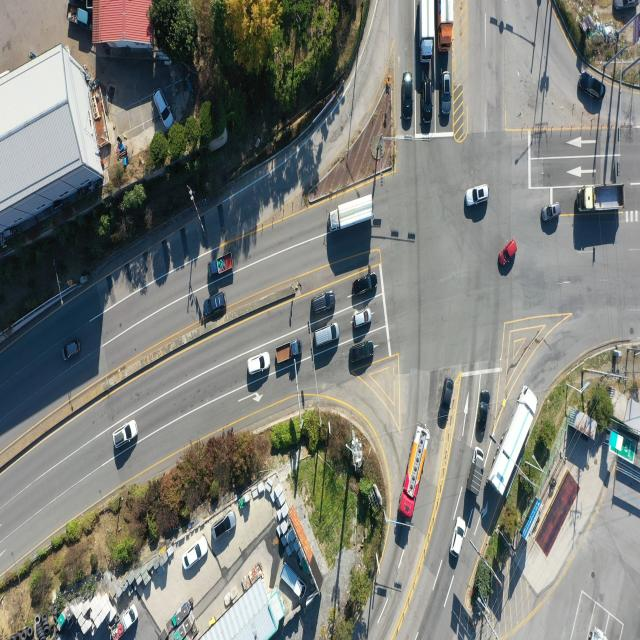car: (184, 538, 210, 572), (578, 71, 603, 103), (440, 377, 456, 424), (114, 420, 139, 450), (156, 89, 174, 130), (477, 391, 491, 441), (403, 73, 415, 130), (352, 272, 378, 298), (313, 322, 339, 348), (349, 340, 375, 366), (212, 511, 235, 540), (498, 238, 516, 272), (452, 517, 466, 559), (247, 351, 271, 375), (204, 292, 228, 316), (314, 291, 338, 314), (466, 185, 491, 207), (442, 73, 453, 119), (422, 78, 433, 124), (353, 309, 372, 328), (540, 204, 560, 222), (63, 341, 80, 362), (615, 0, 639, 11)
medium_truck: (490, 386, 537, 496), (400, 422, 430, 518), (328, 194, 374, 235), (577, 186, 622, 215), (420, 0, 437, 61), (437, 0, 453, 50)
small_truck: (467, 448, 486, 498), (114, 601, 138, 640), (280, 564, 306, 600), (275, 340, 301, 364), (66, 4, 91, 28), (208, 256, 234, 278)
